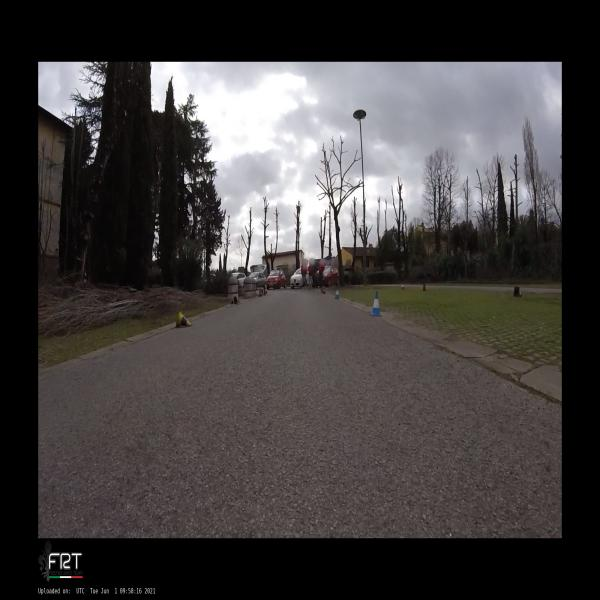blue_cone: (370, 291, 383, 317), (334, 288, 340, 299)
large_orange_cone: (323, 286, 326, 294), (265, 284, 267, 292)
orange_cone: (514, 286, 522, 298)
unknown_cone: (423, 283, 427, 291), (258, 292, 262, 298)
yellow_cone: (176, 311, 192, 328), (230, 296, 238, 305)
